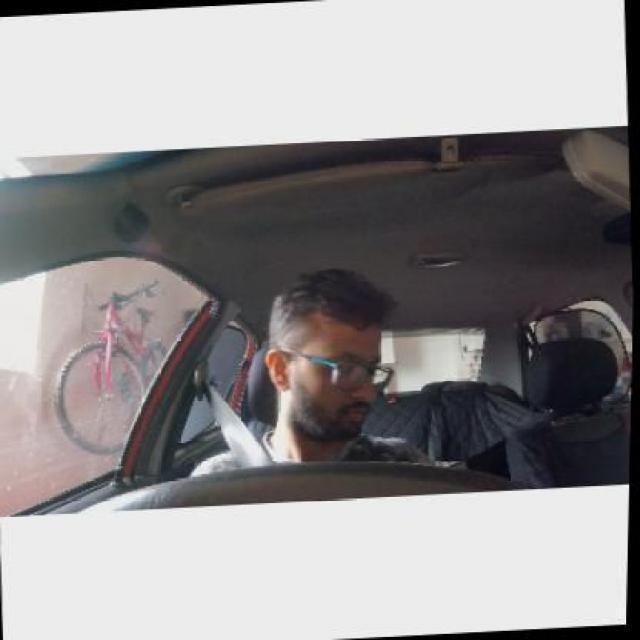drowsy: (256, 270, 399, 442)
